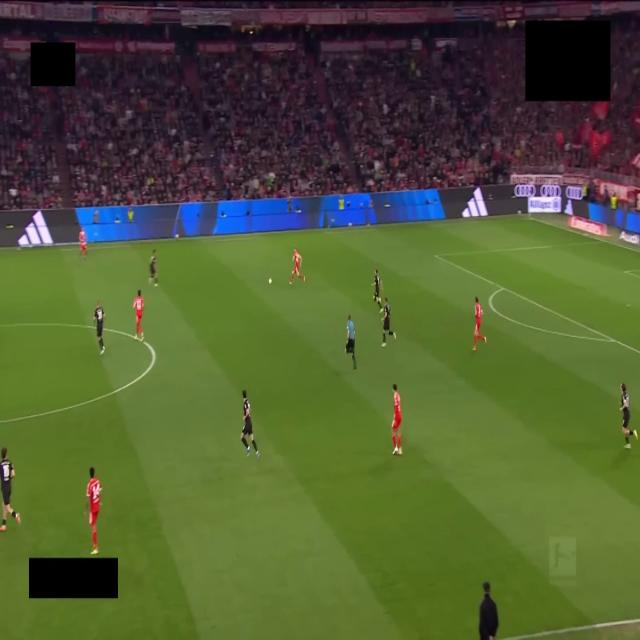ball: (269, 279, 271, 284)
player: (0, 448, 20, 531), (87, 467, 101, 554), (241, 391, 259, 458), (620, 384, 638, 448), (392, 384, 402, 455), (473, 297, 486, 351), (382, 298, 396, 347), (93, 300, 105, 354), (133, 290, 143, 341), (290, 248, 304, 284), (372, 269, 382, 312), (149, 250, 157, 287), (79, 228, 87, 258)
referee: (346, 315, 356, 369)
